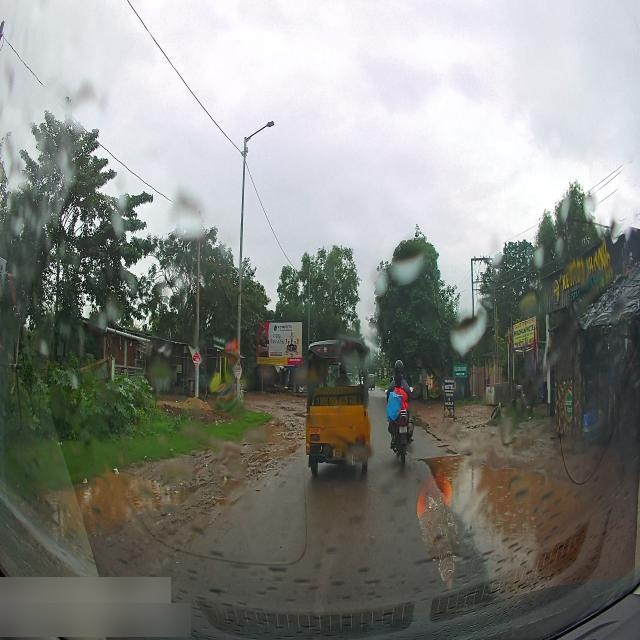pothole: (423, 454, 590, 540), (56, 471, 162, 525), (254, 441, 304, 463), (258, 417, 292, 445), (414, 412, 440, 442), (215, 472, 240, 491)
